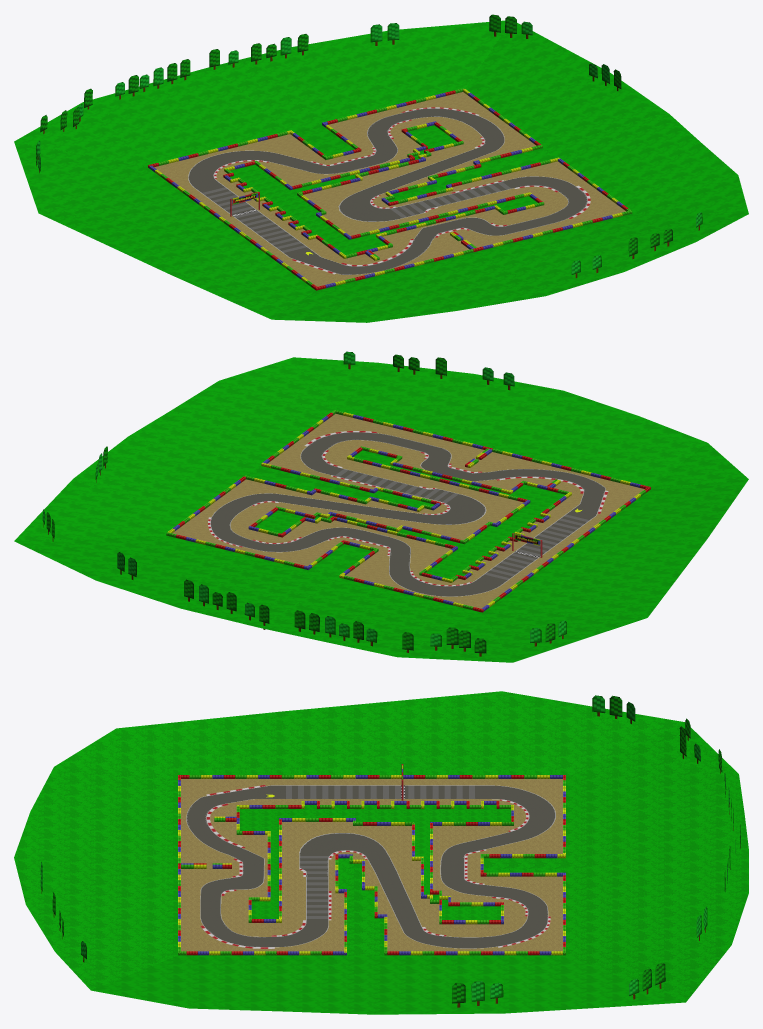
The model's file is MarioKart_Map_Test_2.dae.
3 renders of one model, top to bottom at view 1: azimuth 30°, elevation 25°; view 2: azimuth 150°, elevation 25°; view 3: azimuth 270°, elevation 25°, orthographic. The views are drawn at different scales.
Parts seen in each view (by area): view 1: polygon38, polygon37, polygon40, polygon0, polygon1, polygon46, polygon41, polygon23; view 2: polygon38, polygon37, polygon40, polygon0, polygon1, polygon46, polygon41, polygon23; view 3: polygon38, polygon37, polygon40, polygon1, polygon0, polygon46, polygon41, polygon23.
Part boxes in pixels (x1,y1,x2,y2): polygon38: (14, 20, 748, 322); polygon37: (154, 92, 625, 286); polygon40: (188, 108, 587, 274); polygon0: (148, 89, 632, 290); polygon1: (148, 88, 631, 288); polygon46: (36, 14, 702, 277); polygon41: (201, 181, 511, 252); polygon23: (214, 107, 590, 274); polygon38: (14, 357, 748, 662); polygon37: (172, 413, 644, 608); polygon40: (210, 432, 605, 596); polygon0: (166, 411, 650, 612); polygon1: (166, 410, 650, 610); polygon46: (42, 351, 566, 656); polygon41: (334, 469, 589, 580); polygon23: (208, 431, 608, 586); polygon38: (14, 691, 748, 1014); polygon37: (181, 779, 562, 951); polygon40: (186, 785, 555, 948); polygon1: (178, 775, 565, 952); polygon0: (178, 776, 565, 955); polygon46: (40, 695, 740, 1007); polygon41: (286, 785, 474, 918); polygon23: (200, 764, 550, 948).
Size of the model in its own units: 758 by 728 by 36.76.
